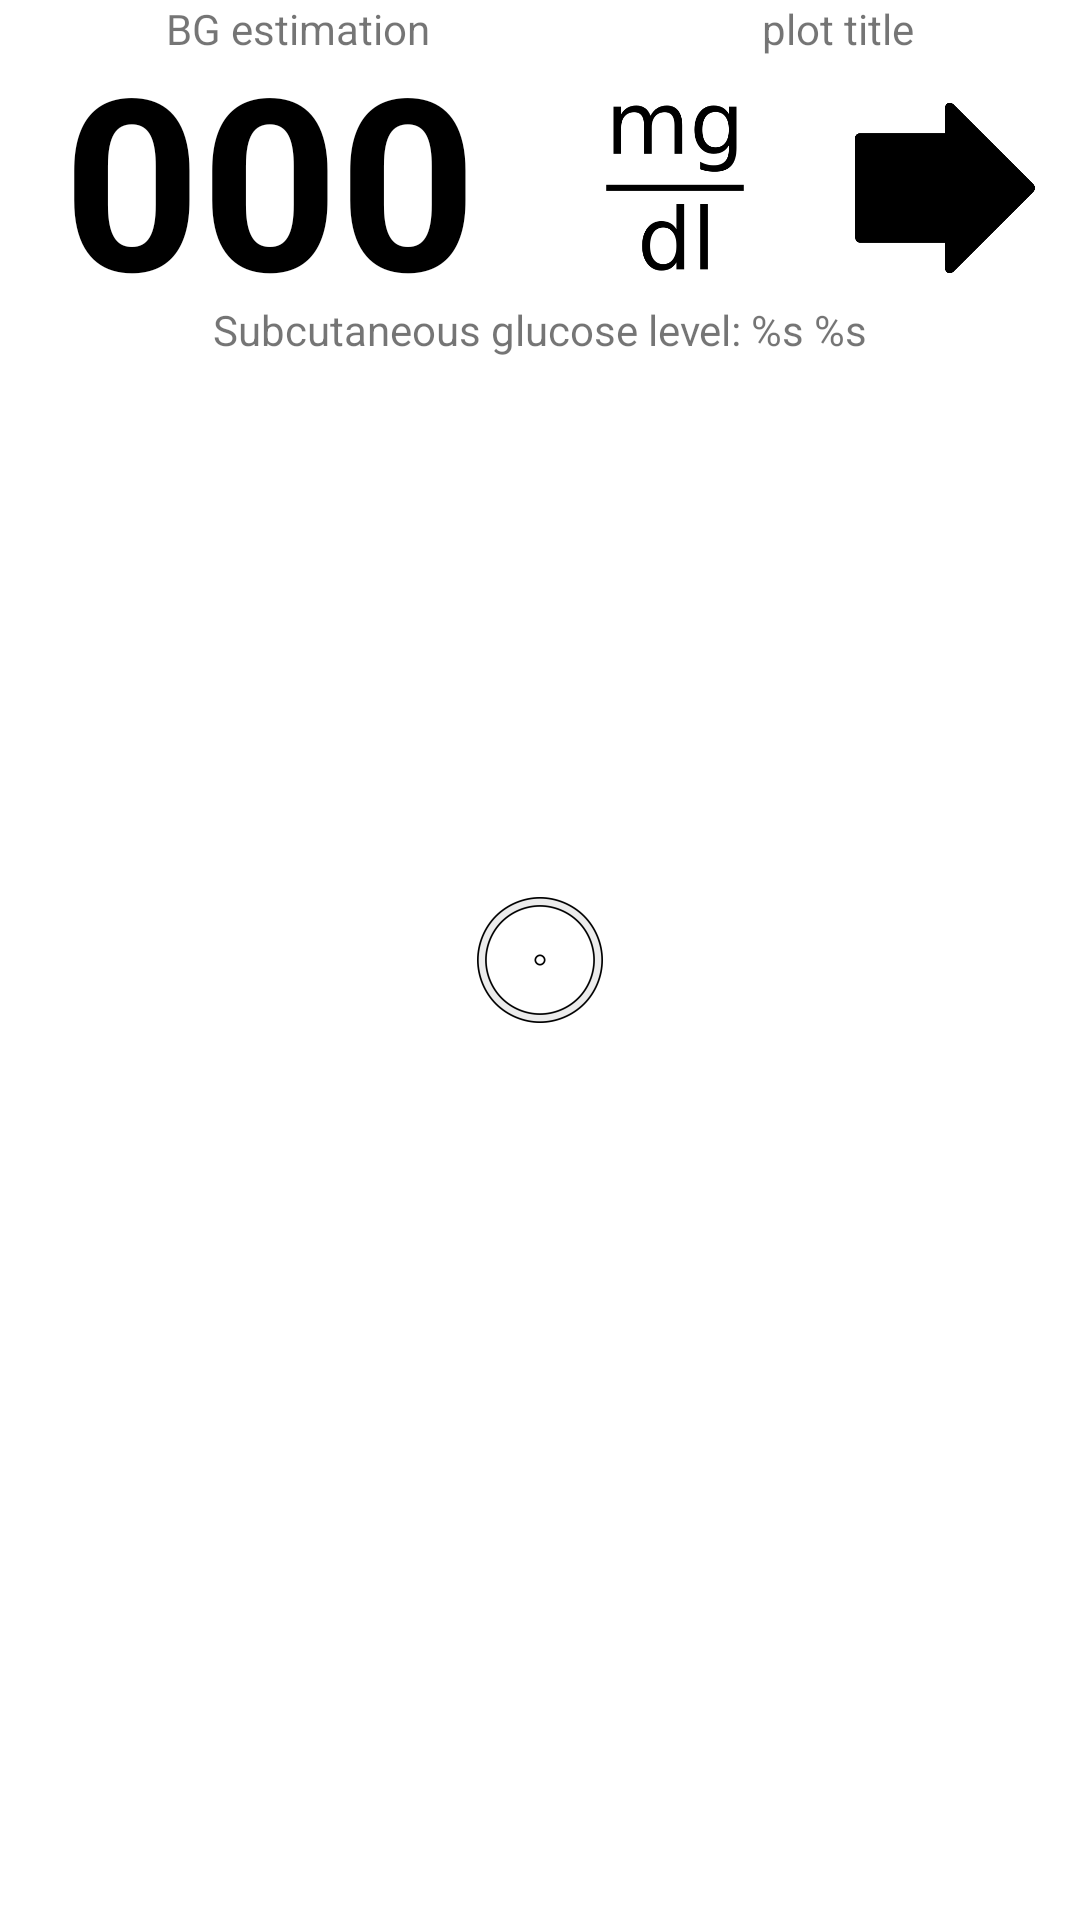

Named icons in this screenshot (1080 × 1920) and their centers, (x,y):
arrow: (945,188)
